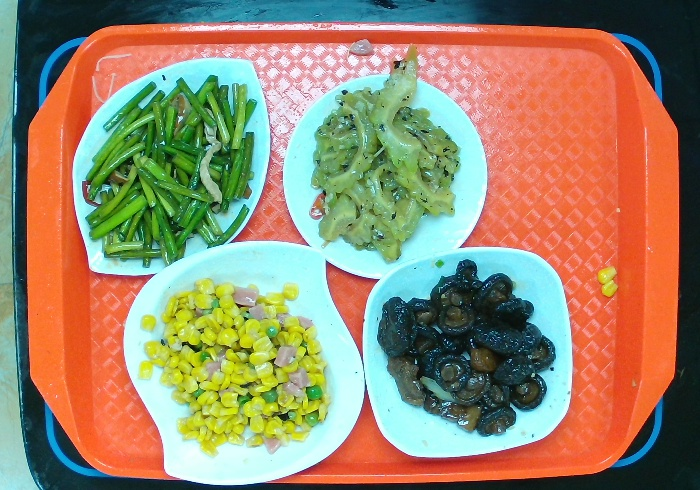RJxy-Da_Du_Pan: (69, 54, 276, 278)
RJxy-Shuang_Jiao_Pan: (119, 237, 372, 490)
RJxy-Si_Fang_Wan: (357, 245, 576, 461)
RJxy-Xiao_Yuan_Die: (278, 72, 494, 281)
